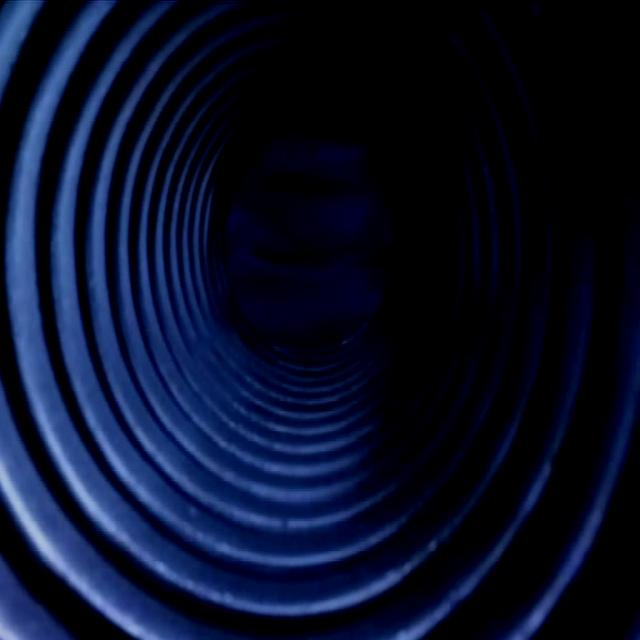block: (220, 124, 398, 349)
